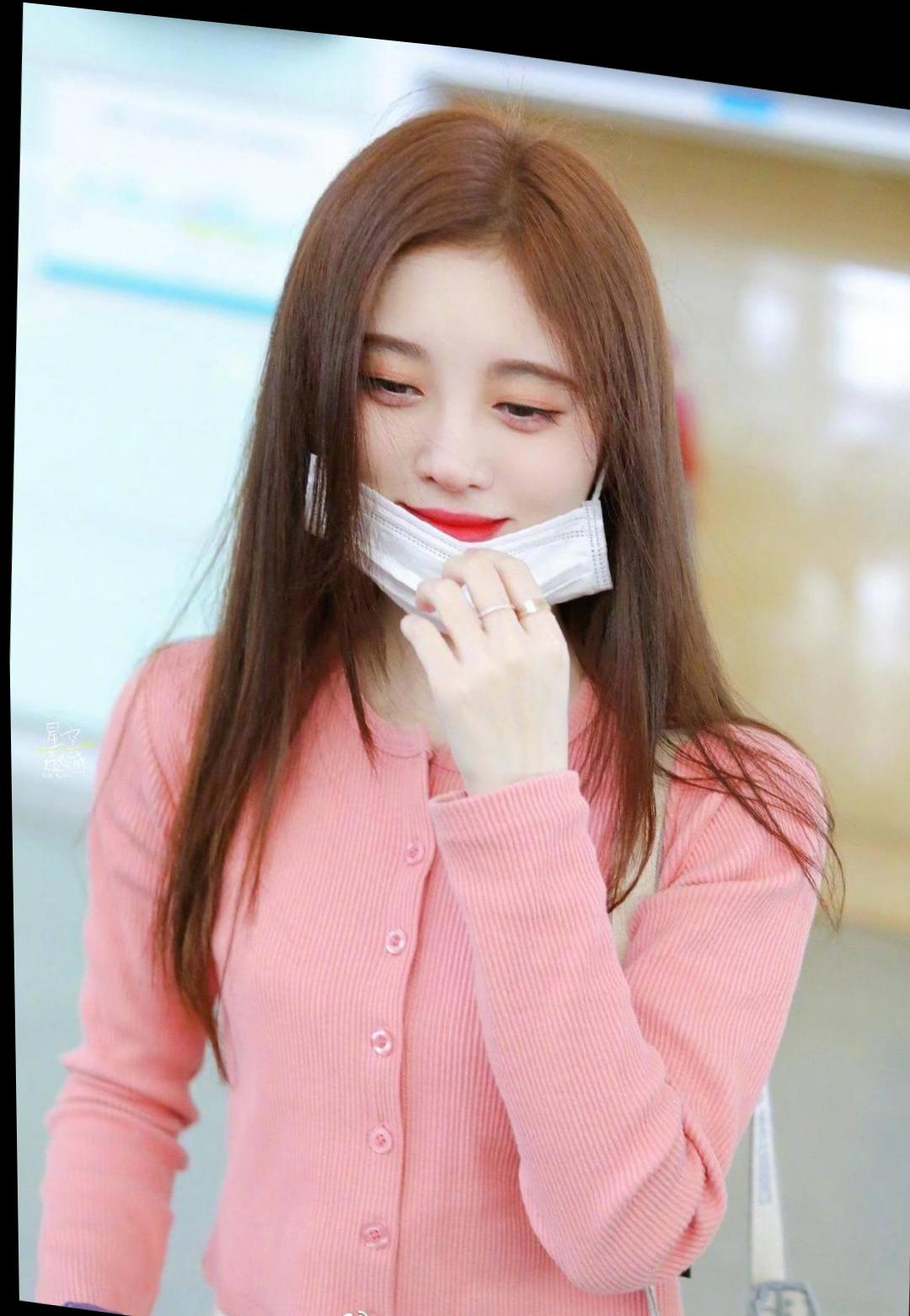WRONG: (331, 269, 602, 624)
